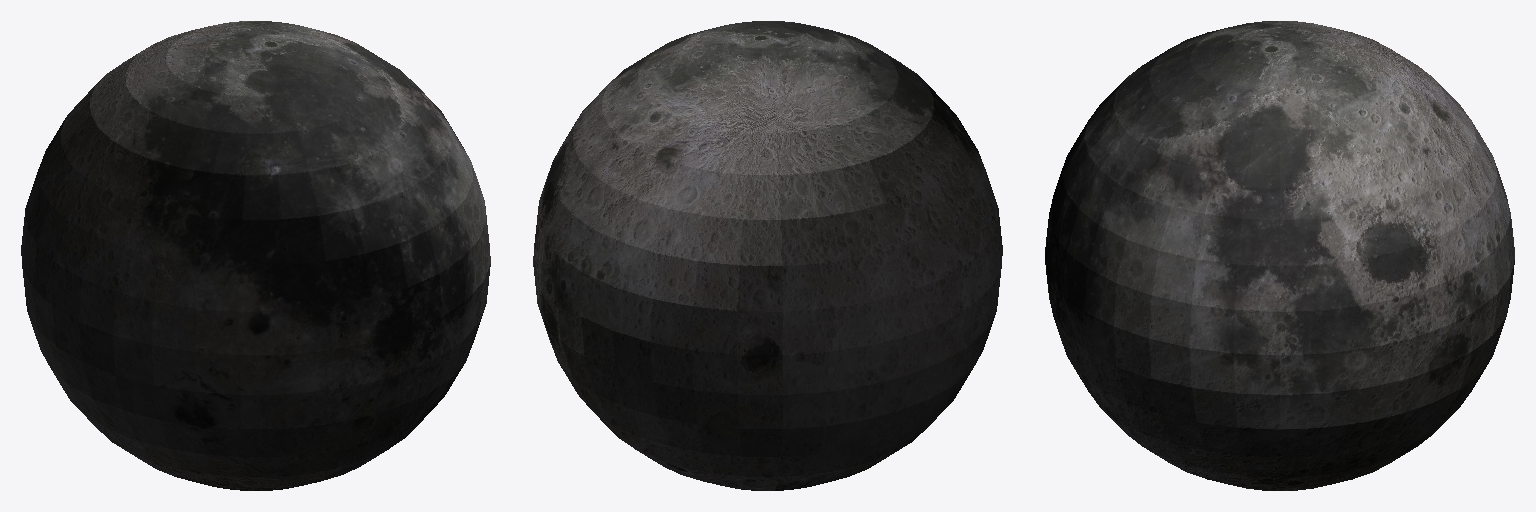
3 renders of one model, left to right at view 1: azimuth 30°, elevation 25°; view 2: azimuth 150°, elevation 25°; view 3: azimuth 270°, elevation 25°, orthographic.
Visible parts, largest first — view 1: Sphere; view 2: Sphere; view 3: Sphere.
Part boxes in pixels (bbox=[...]): Sphere: bbox=[21, 21, 490, 490]; Sphere: bbox=[533, 21, 1002, 490]; Sphere: bbox=[1045, 21, 1514, 490].
Bounding box in the file's own units: 2 × 2 × 2.
1 materials, 1 textured.